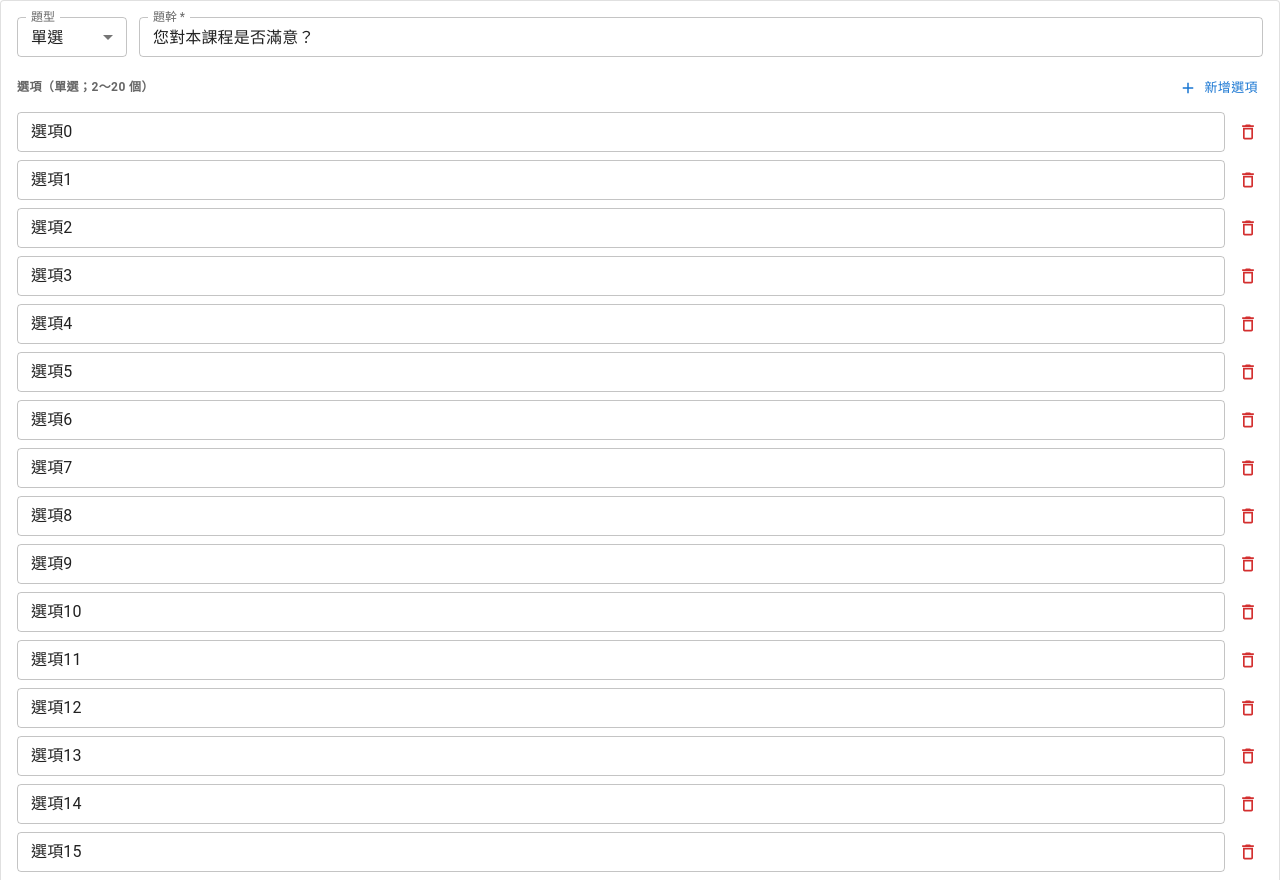
Test: 問卷題目編輯器：單選題 › 未達上限時可繼續新增（正向錨點）
What coordinates should you click on to do the following:
click the button "新增選項"
I would click on:
 (1219, 88)
Its box is left=1176, top=73, right=1263, bottom=104.
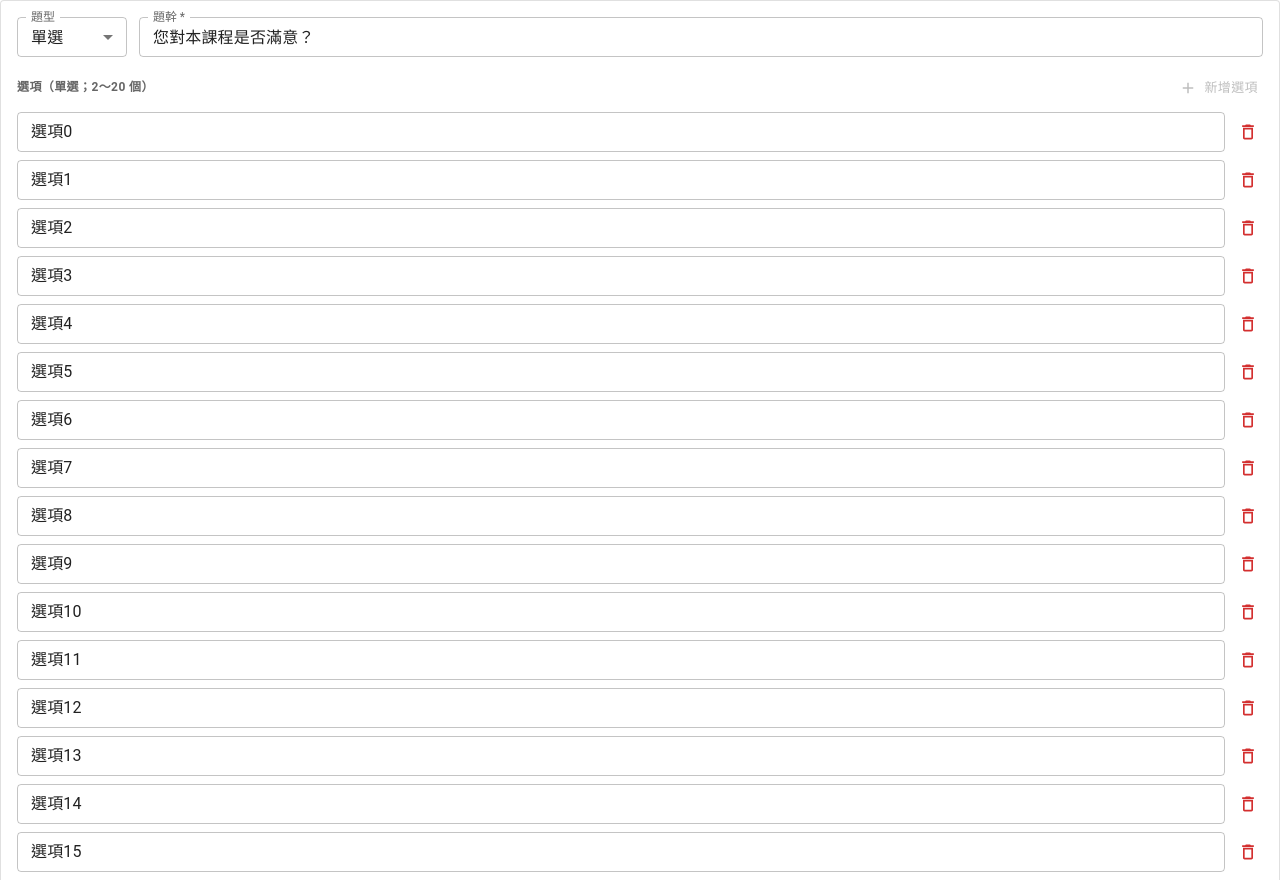
Result: the button "新增選項" is disabled at left=1176, top=73, right=1263, bottom=104
